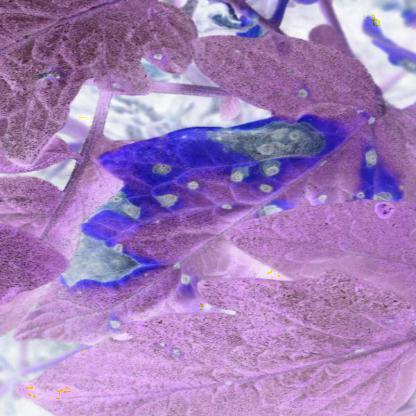Tomato Early blight leaf: (12, 111, 388, 342)
